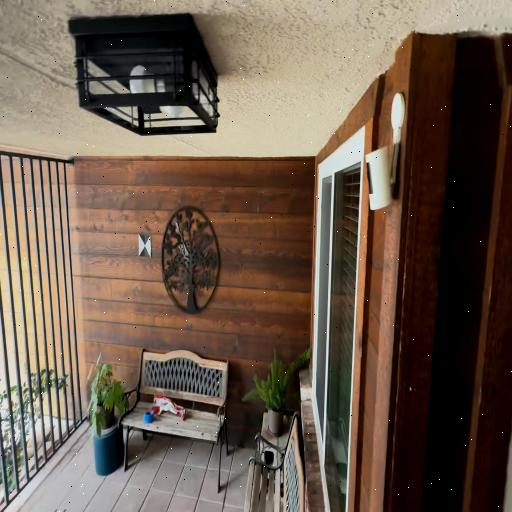target: (139, 234, 151, 258)
